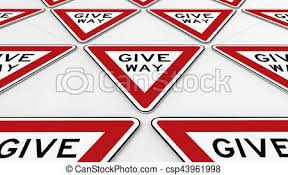giveway: (49, 8, 143, 44), (146, 7, 236, 44)
